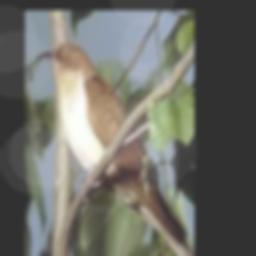Cuckoo: (35, 42, 194, 256)
